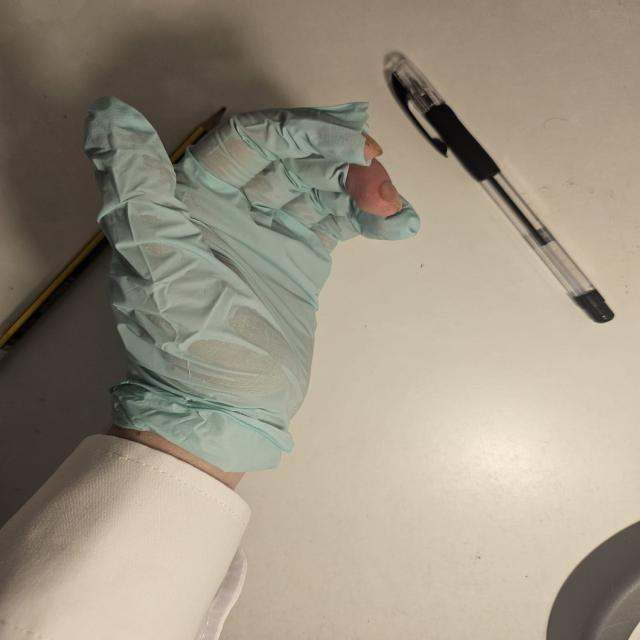gloves_damaged: (78, 94, 424, 475)
